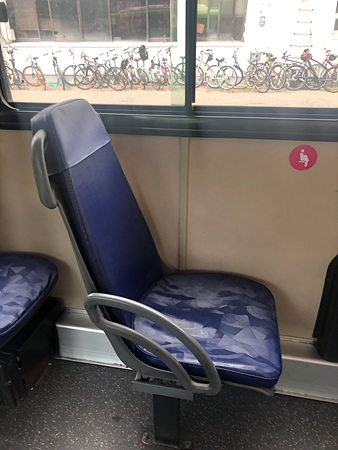seat: (28, 98, 282, 391)
